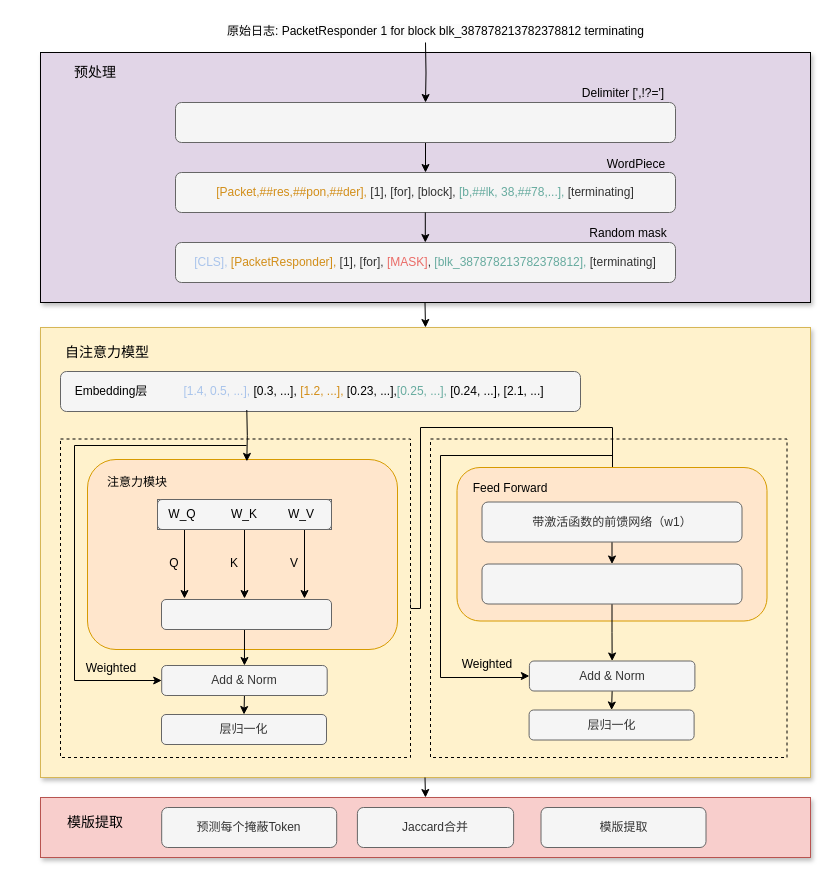
Some shapes in this 834 by 882 pixel diagram are drawn without their labels. The centre of each missing label's shape, as x and y in pixels:
"[PacketResponder], [1], [for], [block], [blk_387878213782378812], [terminating]" belongs at [425,122].
"前馈网络（w2）" belongs at [611,583].
"多头自注意力" belongs at [246,614].
